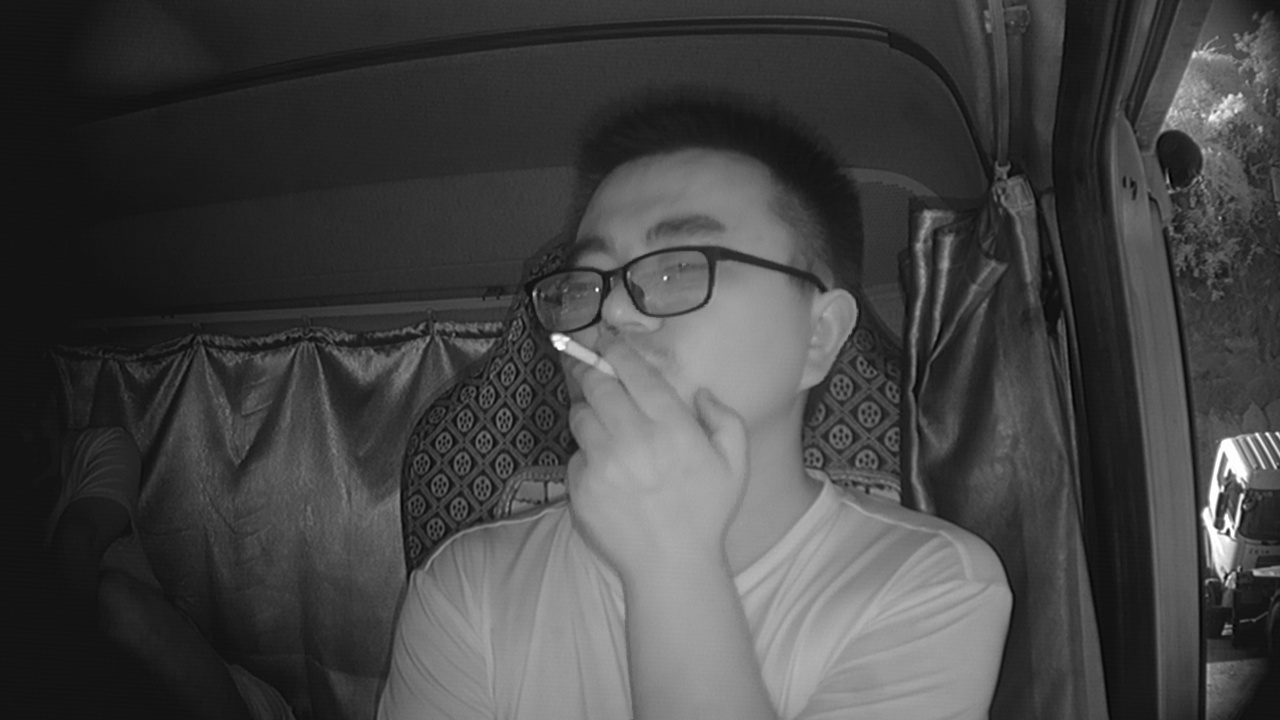hand: (559, 341, 742, 544)
